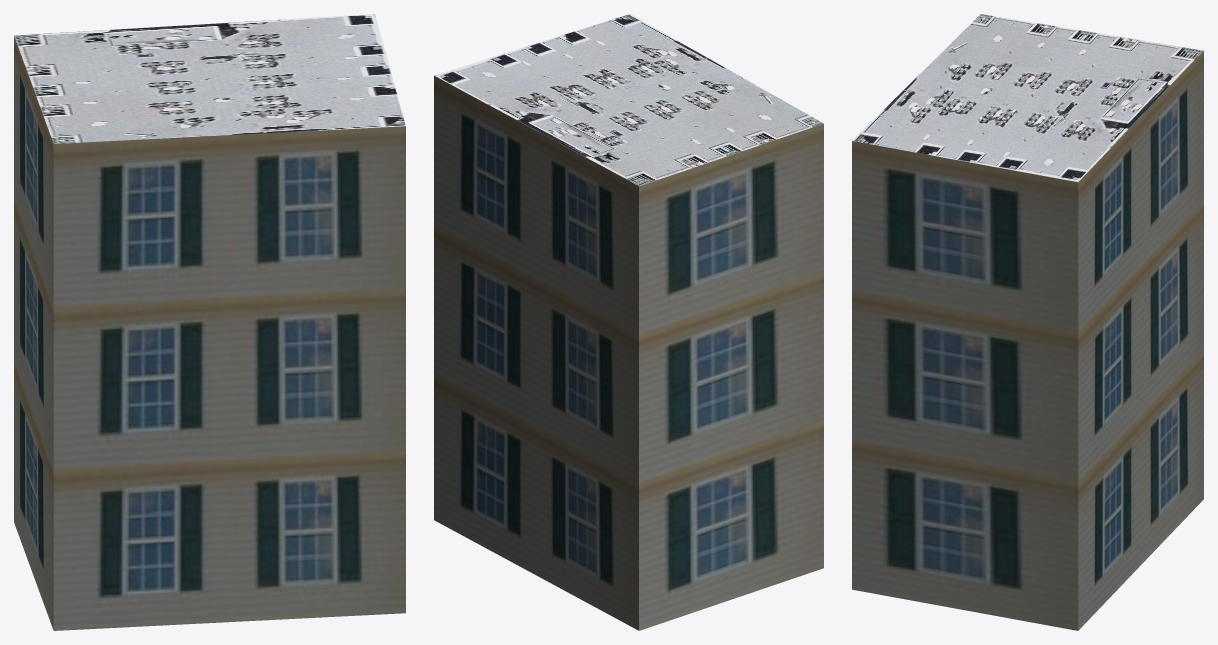
The model's file is ResTex__881.fbx.
3 renders of one model, left to right at view 1: azimuth 30°, elevation 25°; view 2: azimuth 150°, elevation 25°; view 3: azimuth 270°, elevation 25°, orthographic. The views are drawn at different scales.
Visible parts, largest first — view 1: CityEngineMaterial_7_m, CityEngineMaterial_m; view 2: CityEngineMaterial_7_m, CityEngineMaterial_m; view 3: CityEngineMaterial_7_m, CityEngineMaterial_m.
Part boxes in pixels (<box>): CityEngineMaterial_7_m: <box>14,36,405,630</box>; CityEngineMaterial_m: <box>14,14,405,143</box>; CityEngineMaterial_7_m: <box>434,75,823,630</box>; CityEngineMaterial_m: <box>434,14,823,186</box>; CityEngineMaterial_7_m: <box>852,51,1203,630</box>; CityEngineMaterial_m: <box>852,14,1203,181</box>.
Size of the model in its own units: 7.24 by 9 by 6.4.
2 materials, 2 textured.
